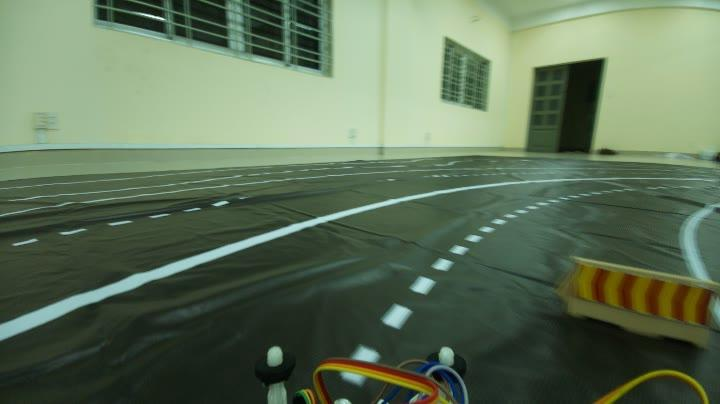roadblock: (562, 251, 714, 345)
